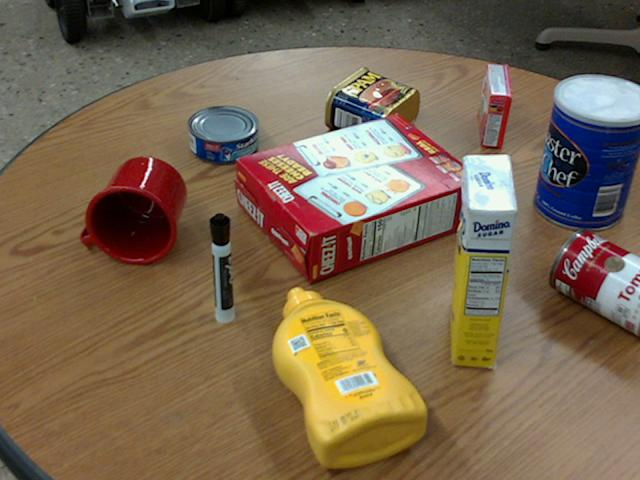cracker_box: (235, 114, 478, 282)
gelatin_box: (478, 64, 510, 146)
large_marker: (209, 212, 232, 322)
master_chef_can: (533, 75, 639, 230)
mug: (80, 155, 184, 263)
mustard_bottle: (272, 287, 426, 466)
potted_meat_can: (324, 67, 419, 143)
sugar_box: (451, 153, 516, 367)
tomato_soup_can: (549, 227, 639, 334)
tuna_fish_can: (187, 104, 257, 161)
